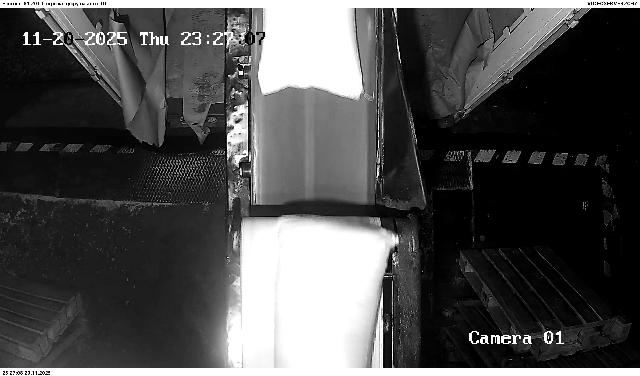bag: (274, 224, 398, 368), (258, 9, 364, 100)
